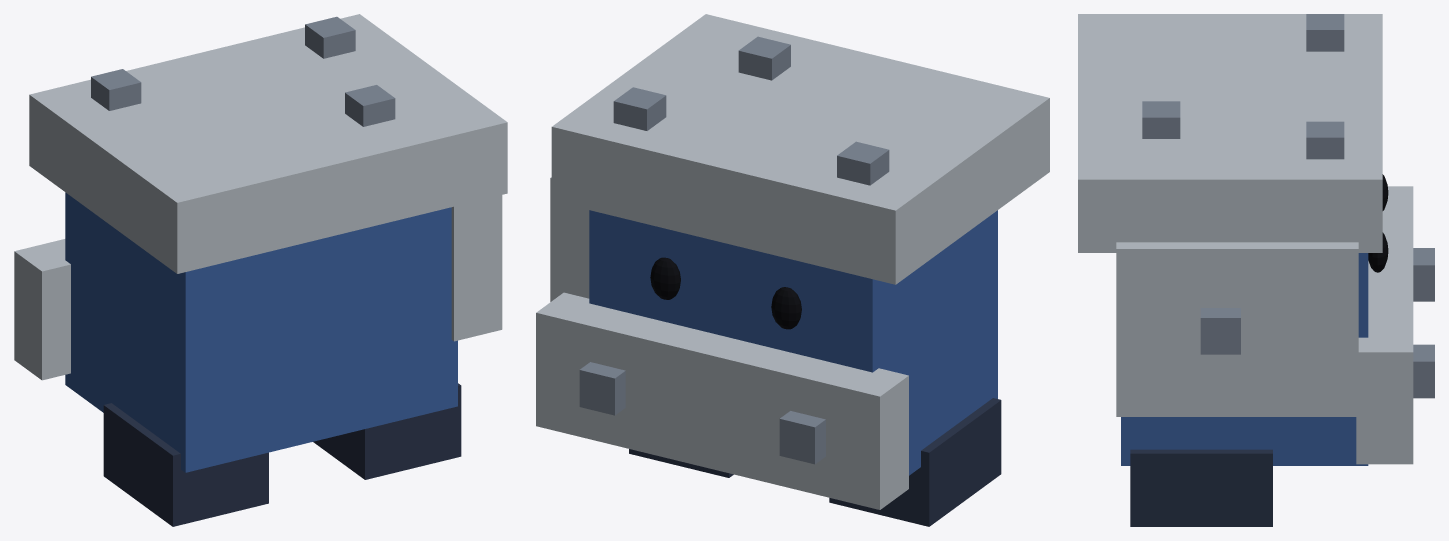
File: Shellback_Block.obj
The picture shows the model from 3 angles, left to right: view 1: azimuth 30°, elevation 25°; view 2: azimuth 150°, elevation 25°; view 3: azimuth 270°, elevation 25°; orthographic projection. The views are drawn at different scales.
Parts seen in each view (by area): view 1: ArmorTop, SlateCore, FootLeft, ArmorFrontLower, ArmorSideRight, FootRight, RivetTopRear, RivetTopLeft, RivetTopRight; view 2: ArmorTop, ArmorFrontLower, SlateCore, FootLeft, ArmorSideRight, RivetFrontLeft, RivetFrontRight, RivetTopRight, RivetTopRear, RivetTopLeft, EyeRight, EyeLeft; view 3: ArmorTop, ArmorSideRight, ArmorFrontLower, FootRight, SlateCore, RivetSide, RivetTopRight, RivetTopLeft, RivetTopRear, RivetFrontRight, RivetFrontLeft, EyeRight.
Part boxes in pixels (<box>): ArmorTop: <box>29,14,507,273</box>; SlateCore: <box>65,192,457,472</box>; FootLeft: <box>103,403,268,526</box>; ArmorFrontLower: <box>14,239,70,380</box>; ArmorSideRight: <box>451,195,502,341</box>; FootRight: <box>313,383,461,479</box>; RivetTopRear: <box>345,85,395,126</box>; RivetTopLeft: <box>91,69,141,110</box>; RivetTopRight: <box>305,16,355,58</box>; ArmorTop: <box>551,14,1049,284</box>; ArmorFrontLower: <box>536,292,908,509</box>; SlateCore: <box>589,210,997,475</box>; FootLeft: <box>829,398,1001,526</box>; ArmorSideRight: <box>550,177,589,301</box>; RivetFrontLeft: <box>779,411,825,464</box>; RivetFrontRight: <box>579,362,625,415</box>; RivetTopRight: <box>613,87,666,130</box>; RivetTopRear: <box>738,36,790,80</box>; RivetTopLeft: <box>837,141,889,185</box>; EyeRight: <box>650,257,680,299</box>; EyeLeft: <box>771,287,801,329</box>; ArmorTop: <box>1078,14,1382,252</box>; ArmorSideRight: <box>1116,242,1358,416</box>; ArmorFrontLower: <box>1356,186,1413,464</box>; FootRight: <box>1130,449,1272,526</box>; SlateCore: <box>1121,253,1368,465</box>; RivetSide: <box>1200,308,1240,354</box>; RivetTopRight: <box>1306,121,1344,159</box>; RivetTopLeft: <box>1306,14,1344,51</box>; RivetTopRear: <box>1142,101,1180,138</box>; RivetFrontRight: <box>1413,344,1434,398</box>; RivetFrontLeft: <box>1413,248,1434,301</box>; EyeRight: <box>1368,232,1388,272</box>.
Size of the model in its own units: 1.81 by 1.76 by 1.5.
